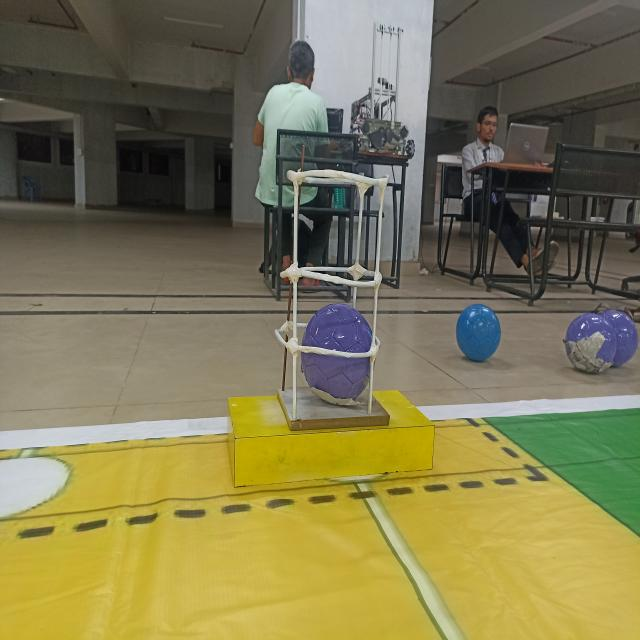blue_ball: (455, 296, 503, 364)
purple_ball: (300, 292, 380, 406), (564, 309, 620, 376), (598, 306, 639, 366)
silo: (287, 167, 388, 420)
